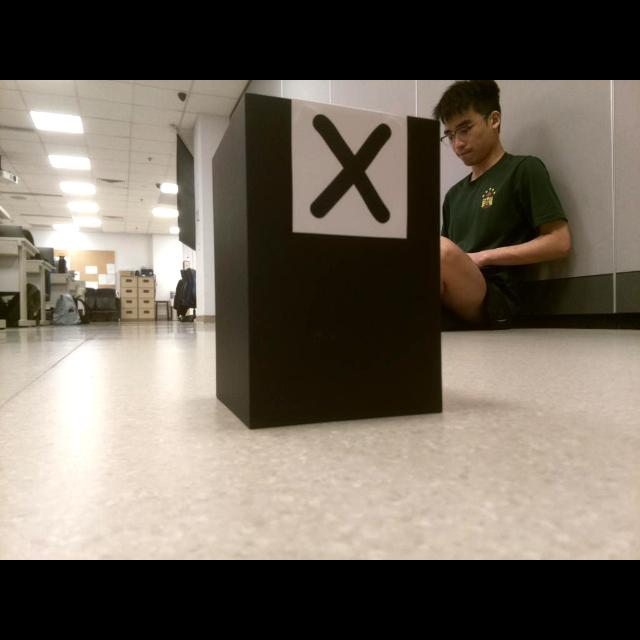X: (310, 114, 393, 225)
